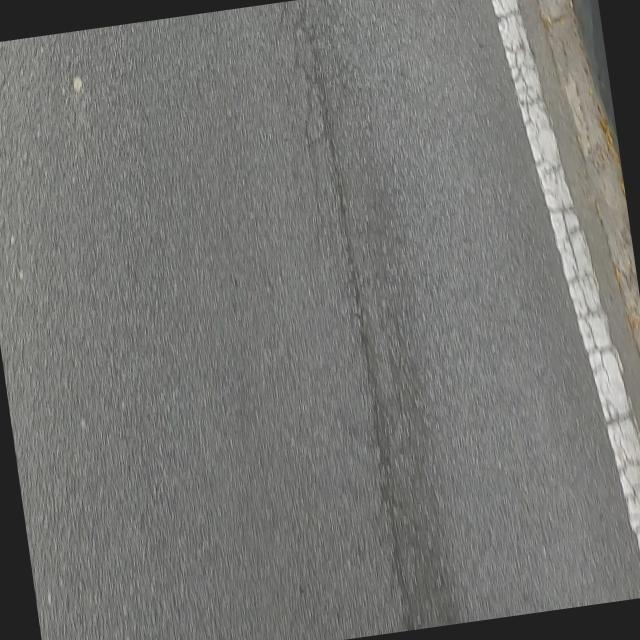Retak-Buaya: (492, 0, 640, 533)
Retak-Memanjang: (310, 32, 416, 631)
